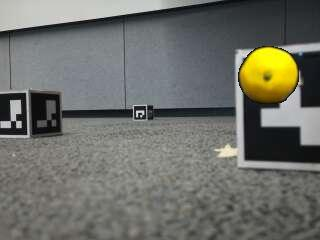lemon: (240, 47, 299, 103)
